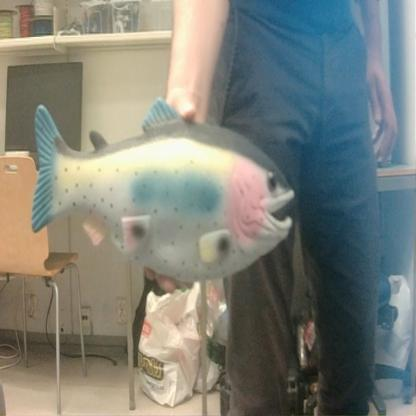rubberfish: (29, 93, 299, 286)
